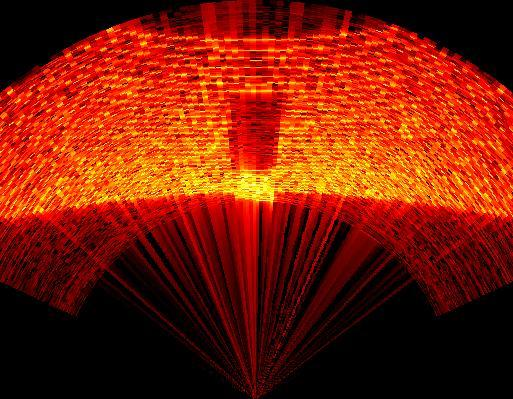box_crate: (230, 94, 282, 168)
